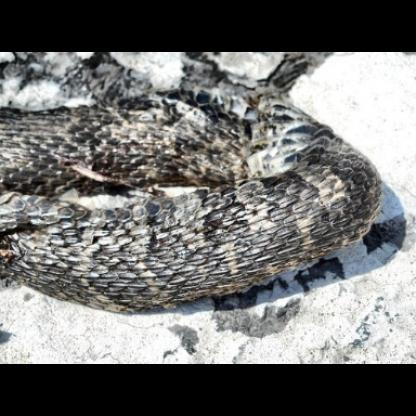Snake: (4, 77, 385, 302)
